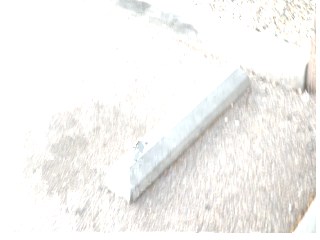Edge: (97, 72, 250, 205)
Uplift: (97, 72, 250, 205)
